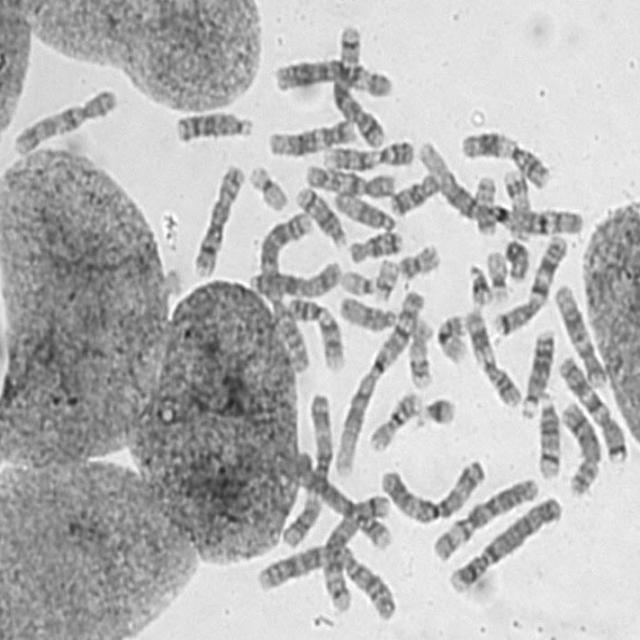A1: (330, 282, 430, 478), (410, 133, 588, 239)
A2: (250, 536, 400, 622), (253, 202, 317, 374)
A3: (277, 386, 336, 548), (374, 451, 488, 525)
B4: (443, 488, 565, 595), (288, 447, 394, 552)
B5: (318, 487, 392, 614), (328, 17, 388, 149)
C10: (6, 81, 120, 157), (301, 157, 398, 200)
C11: (459, 300, 524, 410), (456, 122, 553, 190)
C12: (549, 276, 609, 388), (263, 111, 359, 157)
C6: (428, 469, 541, 562), (269, 51, 396, 99)
C7: (487, 228, 570, 336), (553, 348, 630, 463)
C8: (187, 156, 247, 279), (555, 394, 604, 498)
C9: (282, 290, 346, 373), (317, 132, 417, 172)
D13: (516, 322, 557, 420), (170, 102, 255, 144)
D14: (289, 179, 349, 249), (532, 386, 563, 480)
D15: (327, 183, 399, 233), (334, 288, 400, 332)
E16: (364, 384, 425, 452), (431, 306, 470, 364)
E17: (498, 160, 533, 242), (403, 310, 436, 390)
E18: (384, 166, 443, 218), (344, 223, 405, 264)
F19: (243, 158, 290, 214), (481, 243, 511, 304)
F20: (393, 236, 442, 280), (470, 167, 499, 236)
G21: (411, 389, 458, 429), (463, 257, 494, 307)
G22: (369, 251, 402, 303), (336, 262, 379, 297)
X: (244, 253, 344, 300)
